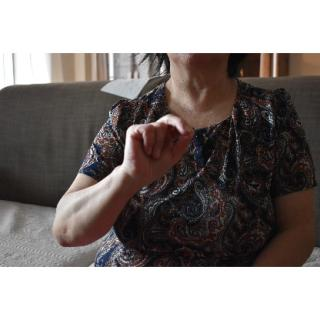QAAF: (118, 107, 198, 178)
